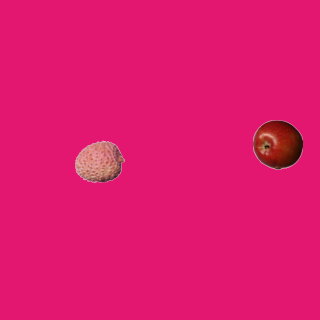Apple Braeburn: (252, 119, 302, 169)
Lychee: (74, 136, 124, 186)
